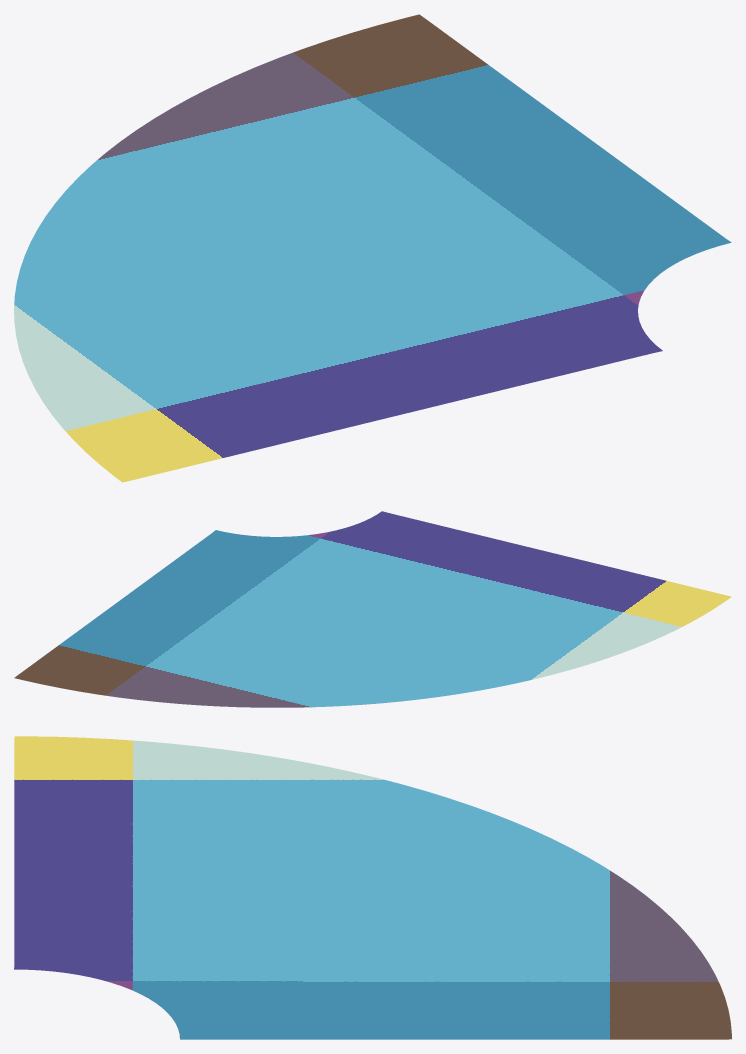
The model's file is RoadPart_Straight_02.fbx.
3 renders of one model, top to bottom at view 1: azimuth 30°, elevation 25°; view 2: azimuth 150°, elevation 25°; view 3: azimuth 270°, elevation 25°, orthographic. The views are drawn at different scales.
Visible parts, largest first — view 1: Plane.001; view 2: Plane.001; view 3: Plane.001.
Boxes of the visible parts, x1,y1,x2,y2 form: Plane.001: [14, 14, 731, 482]; Plane.001: [14, 511, 731, 707]; Plane.001: [14, 736, 731, 1039].
Bounding box in the file's own units: 520 × 9.56e-05 × 520.
